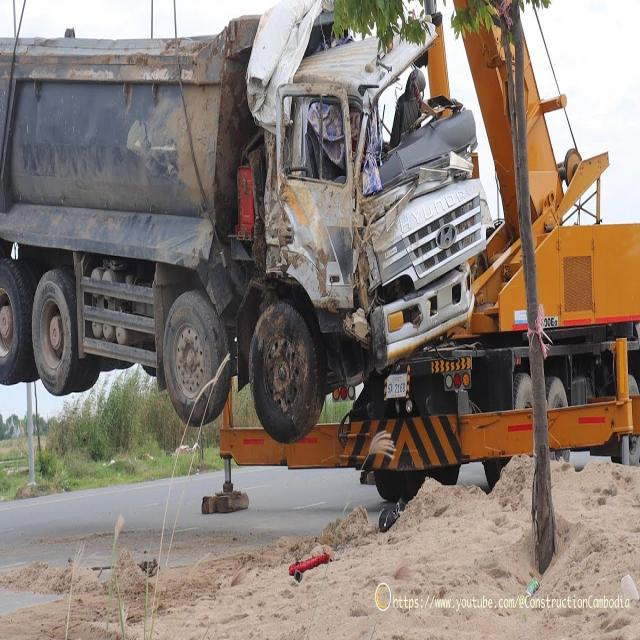accident: (0, 0, 492, 442)
truck: (200, 4, 640, 521)
